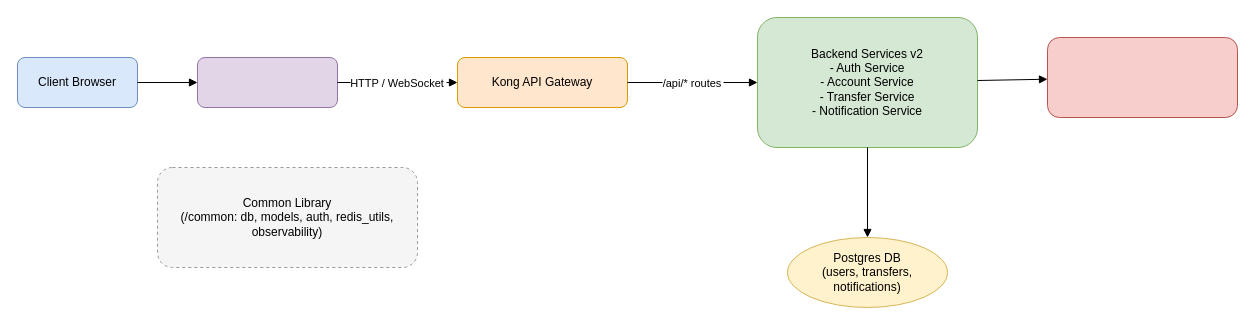
Image size: 1255x325. Some labels were removed from this diagram. Here are the shapes that lost their labels. From the top down, the box of each, then its label:
(196, 56, 338, 108): Frontend (React v2)
(1046, 36, 1238, 118): Redis (sessions, presence, notifications)
